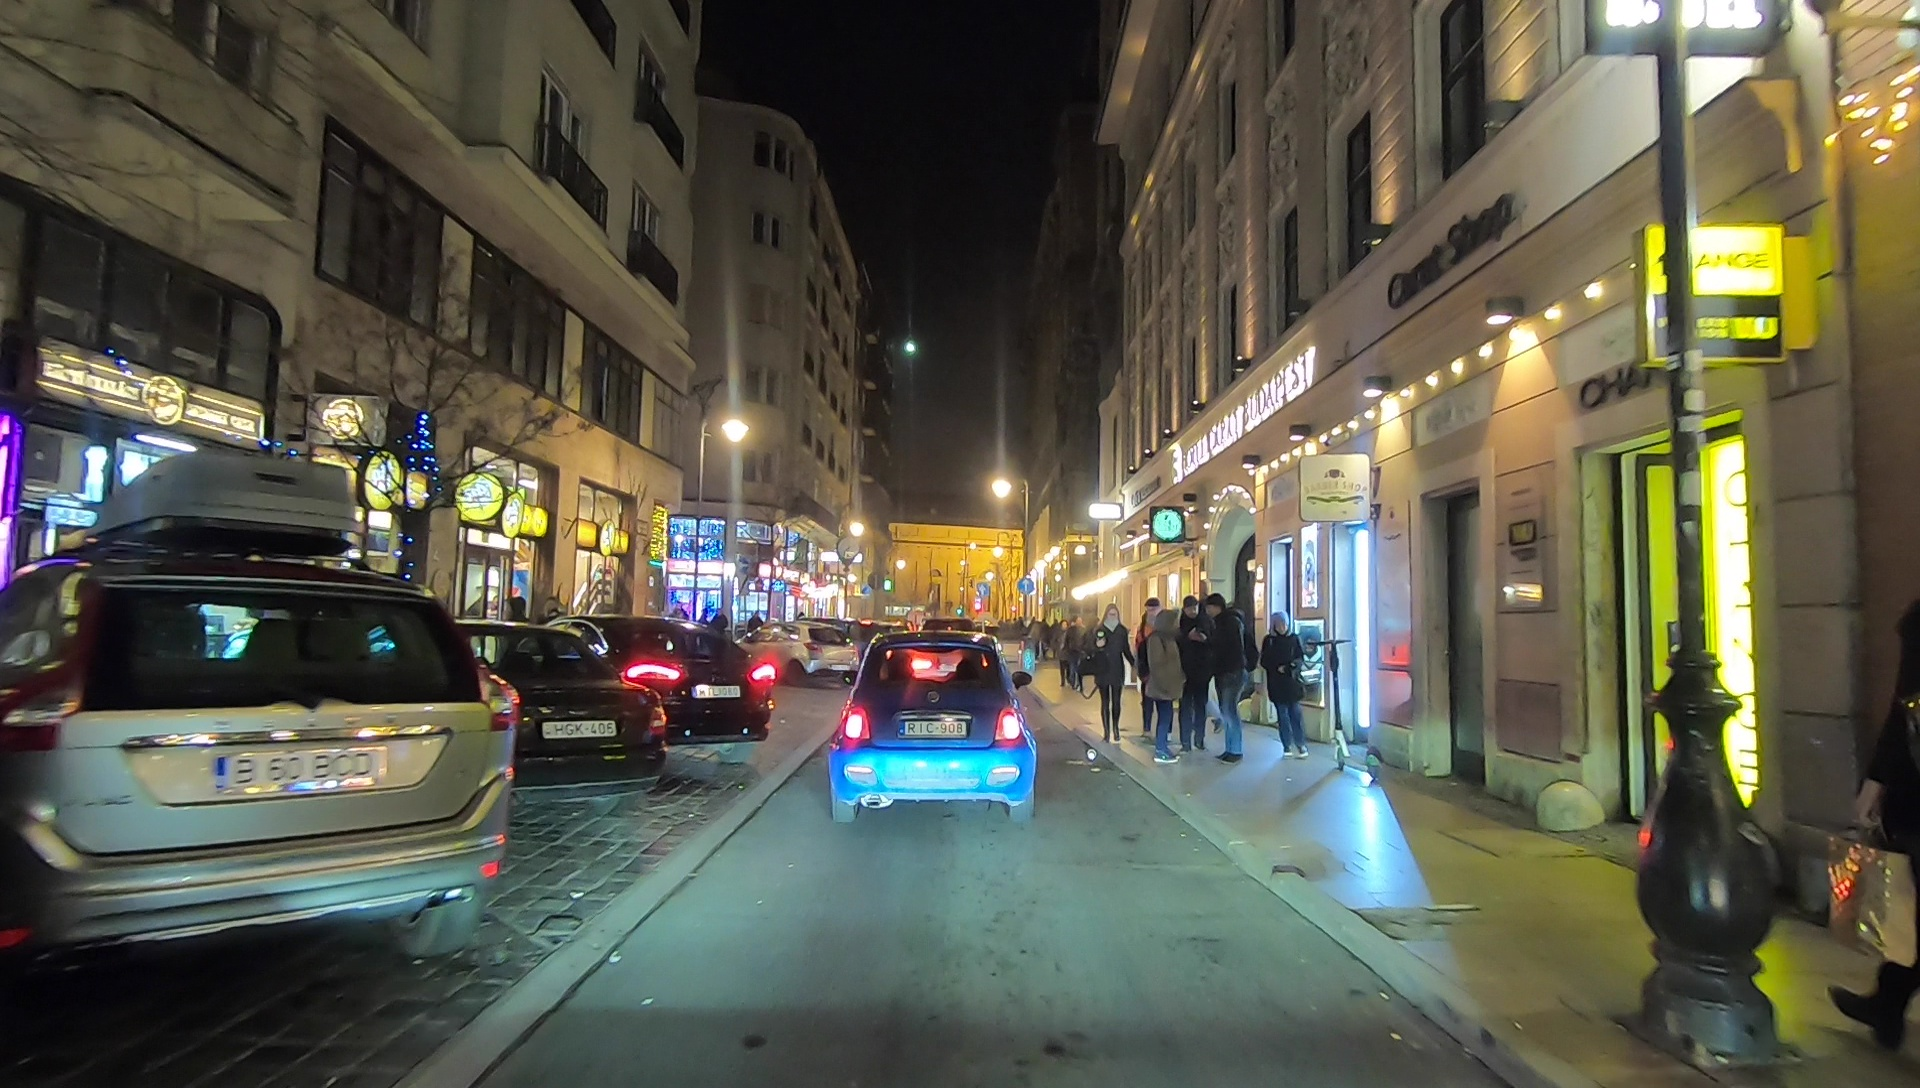person: (1203, 596, 1253, 765), (1265, 612, 1313, 758), (1145, 615, 1188, 766), (1088, 604, 1132, 742), (1179, 598, 1211, 753), (501, 598, 529, 675), (1067, 616, 1088, 692), (1056, 618, 1071, 687), (712, 610, 727, 658), (748, 613, 762, 653)
